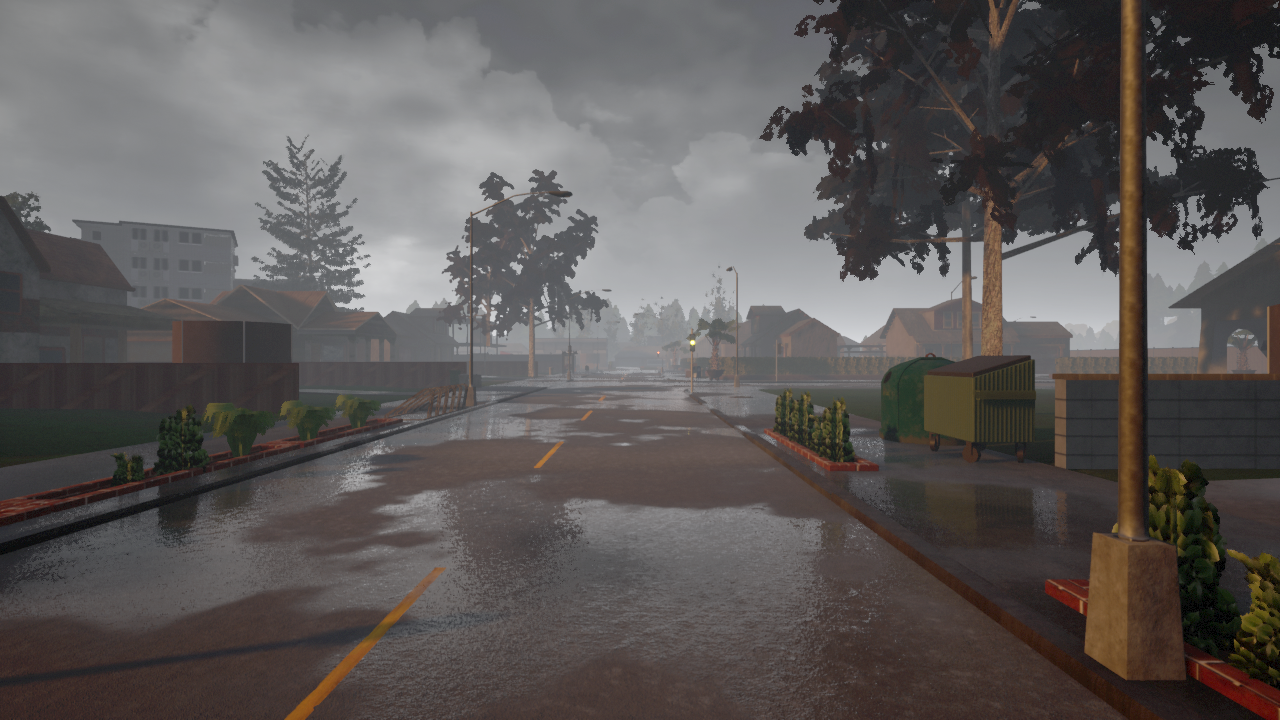yellow: (689, 333, 696, 352)
